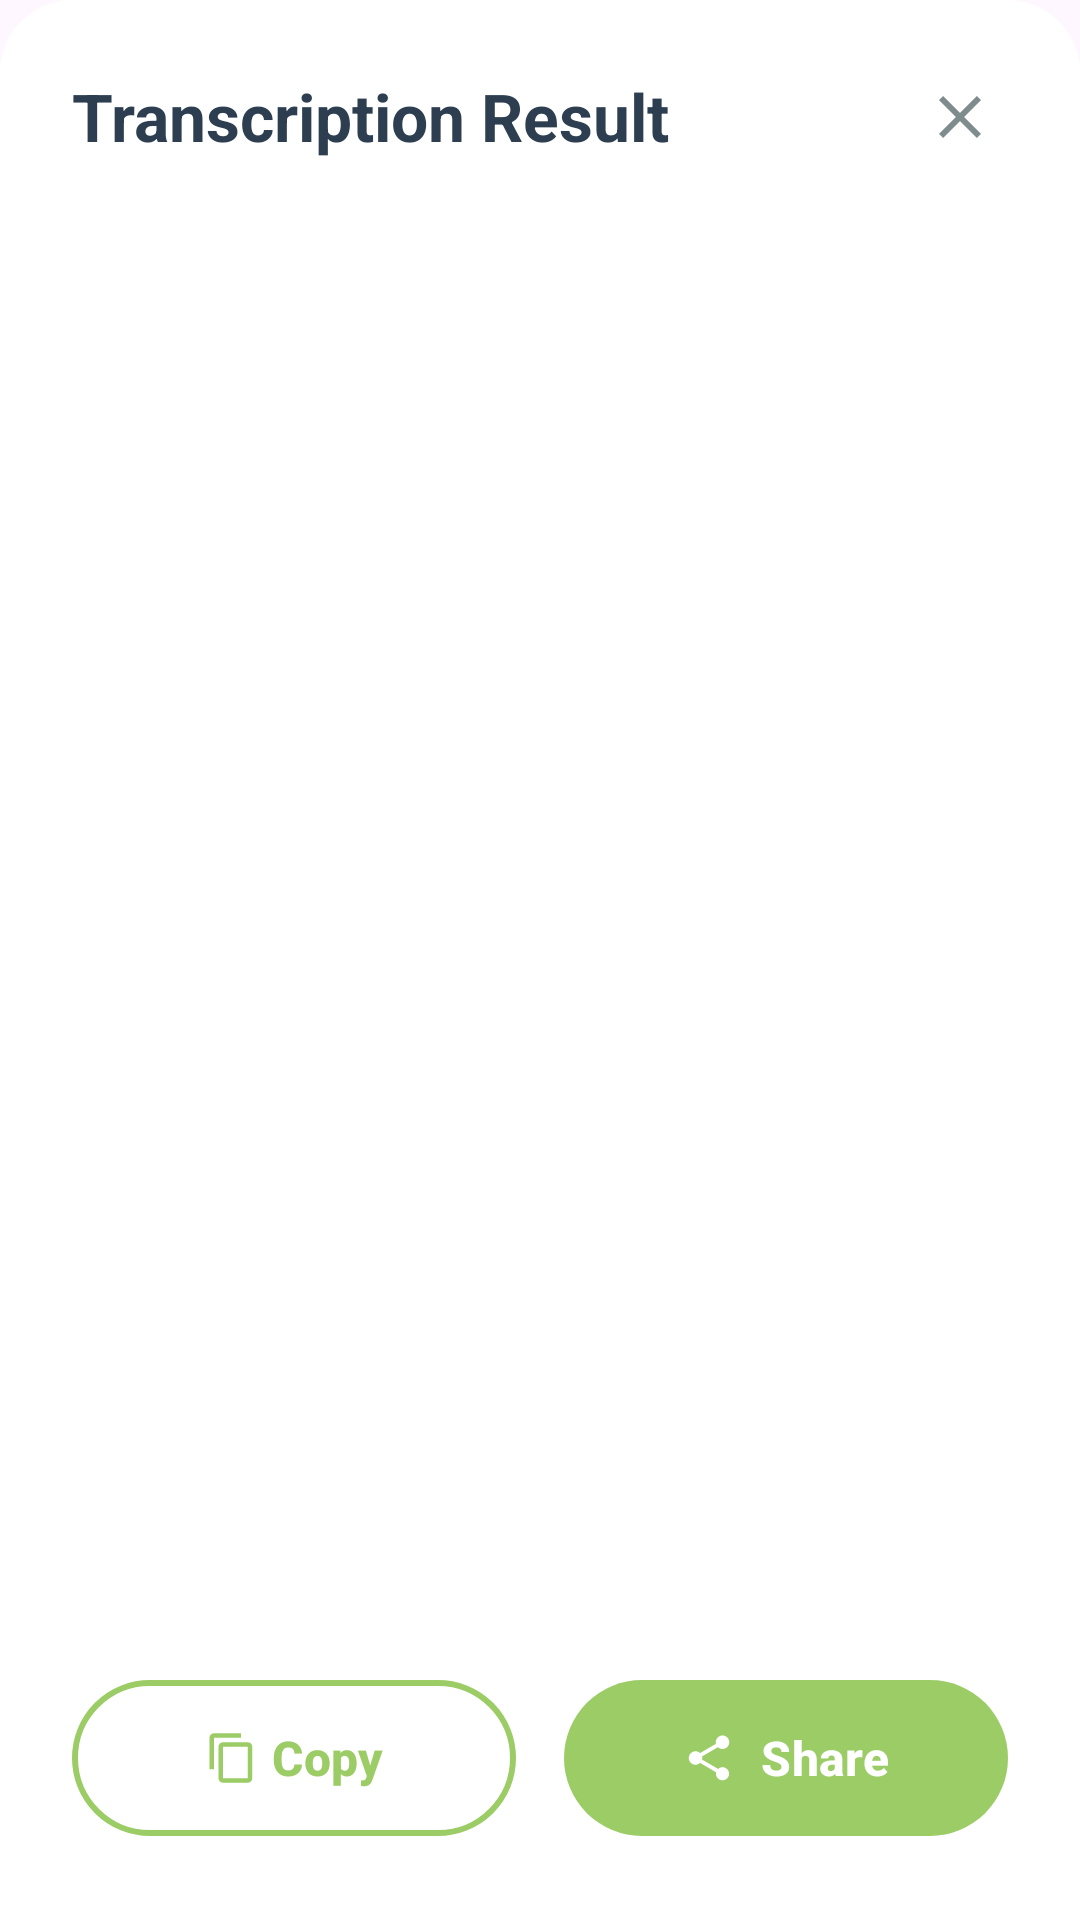

Icons on this 1080w x 1920h Android screen, each with its box as (x1, y1, x2, y2):
Close: (939, 96, 981, 138)
